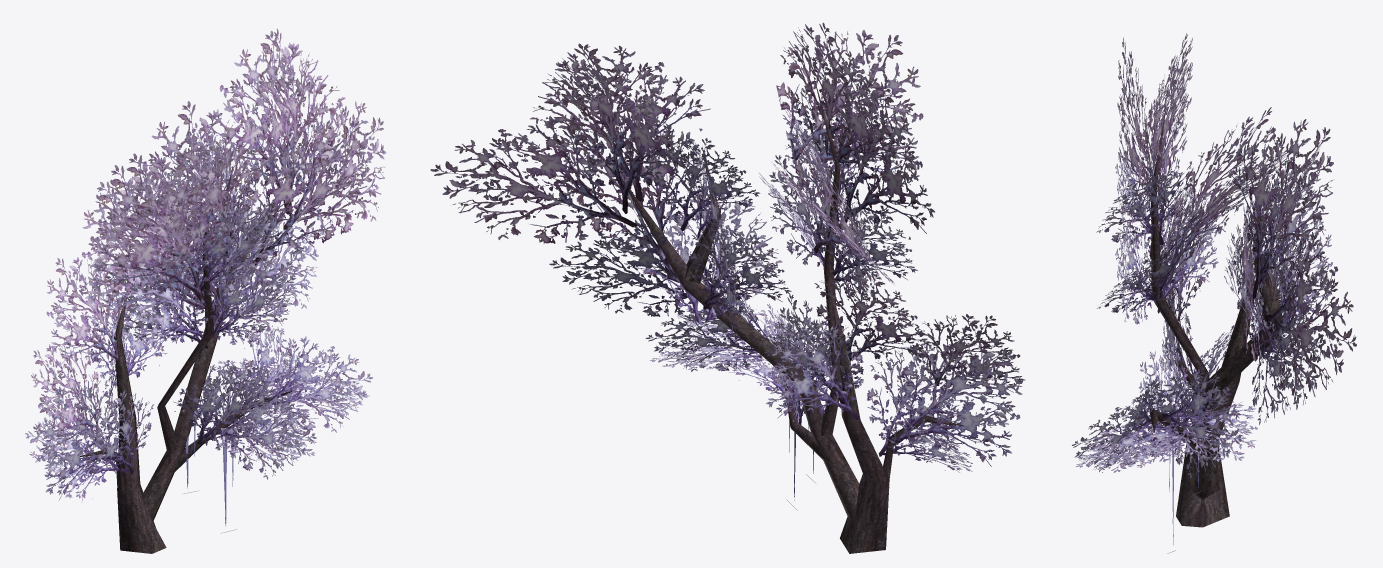
File: yw_piaomiaofeng_dashu02.FBX
3 views of the same model, side by side, from view 1: azimuth 30°, elevation 25°; view 2: azimuth 150°, elevation 25°; view 3: azimuth 270°, elevation 25° (orthographic). The views are drawn at different scales.
Visible parts, largest first — view 1: yw_piaomiaofeng_dashu02; view 2: yw_piaomiaofeng_dashu02; view 3: yw_piaomiaofeng_dashu02.
Boxes of the visible parts, left/top/right/bottom form: yw_piaomiaofeng_dashu02: left=25, top=28, right=386, bottom=553; yw_piaomiaofeng_dashu02: left=430, top=22, right=1025, bottom=553; yw_piaomiaofeng_dashu02: left=1072, top=33, right=1356, bottom=553.
Bounding box in the file's own units: 532 × 515 × 272.
